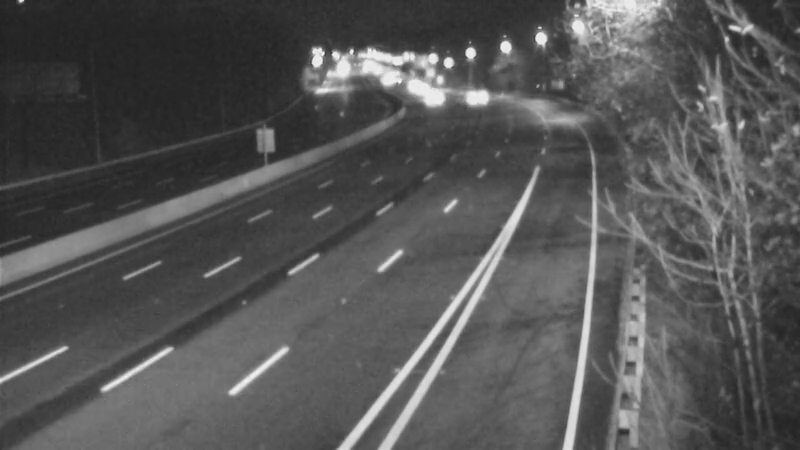vehicle: (405, 77, 455, 127), (444, 72, 494, 122)
